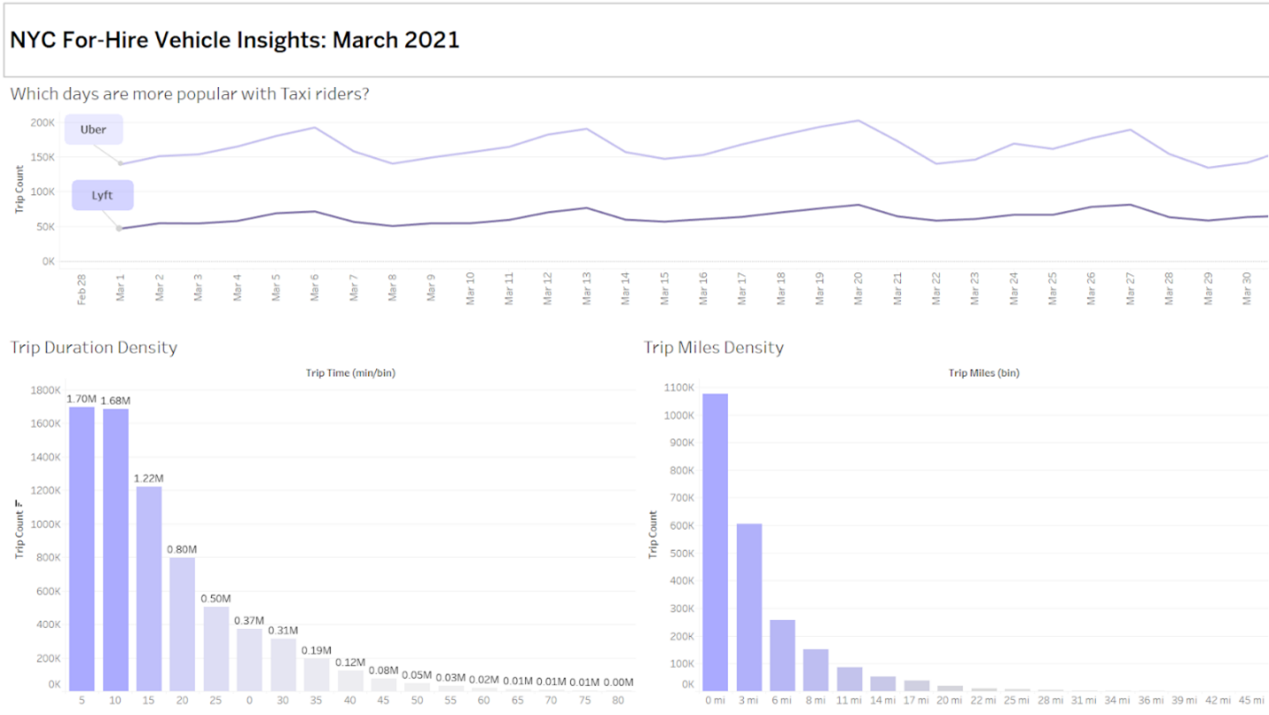

This screenshot's page, from the dashboard's own definition file:
{"tool":"tableau","page":{"name":"Dashboard 1","canvas":[1920,1080],"ordinal":0},"visuals":[{"type":"text","box":[8,8,1904,108.6]},{"type":"worksheet","title":"Day Popularity","mark":"Line","rows":["trip_id"],"cols":["dropoff_datetime"],"box":[8,116.6,1904,350.4]},{"type":"worksheet","title":"Trip Duration Density","mark":"Bar","rows":["trip_id"],"cols":["Trip (Min) (bin)"],"box":[8,499,952,573]},{"type":"worksheet","title":"Trip Miles Density","mark":"Bar","rows":["trip_1FDAE77A796647A680A7EB666D77A892"],"cols":["Trip Miles (bin)"],"box":[960,499,952,573]}]}

Visuals, with their boxes in screenshot pixels (x1, y1, x2, y2), scaled from the page's 1920x1080 canvas onto the 1269x715 screenshot:
text: bbox(5, 5, 1264, 77)
"Day Popularity" worksheet (Line marks): bbox(5, 77, 1264, 309)
"Trip Duration Density" worksheet (Bar marks): bbox(5, 330, 634, 710)
"Trip Miles Density" worksheet (Bar marks): bbox(634, 330, 1264, 710)
